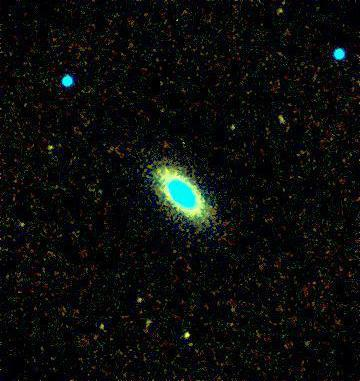star: (268, 0, 298, 28)
